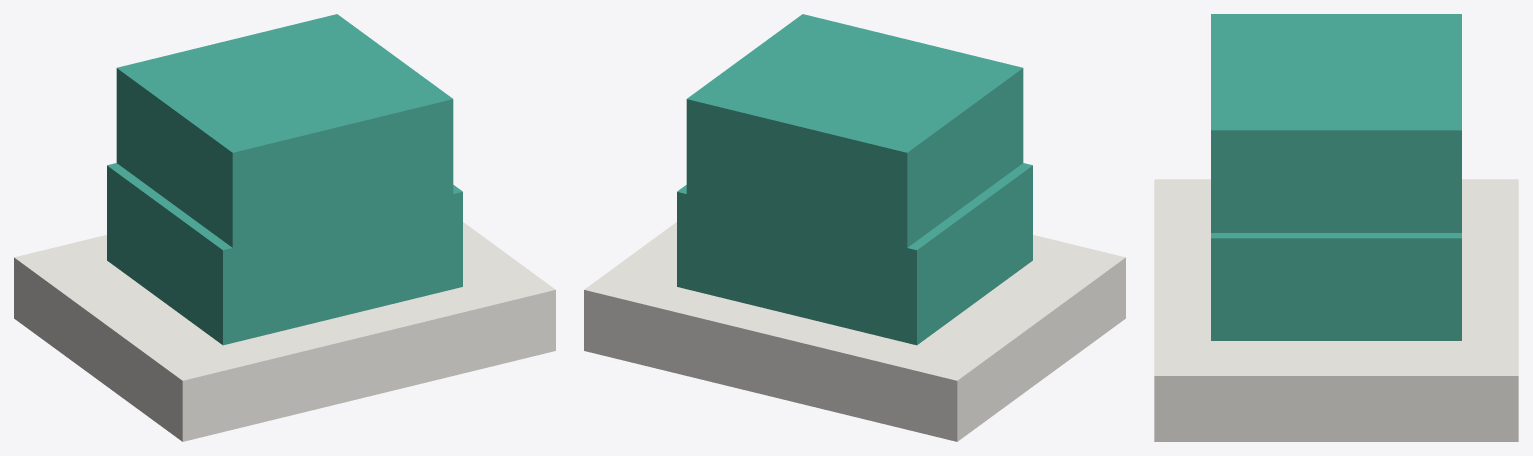
The model's file is message_board-lv2.glb.
3 views of the same model, side by side, from view 1: azimuth 30°, elevation 25°; view 2: azimuth 150°, elevation 25°; view 3: azimuth 270°, elevation 25° (orthographic). The views are drawn at different scales.
Visible parts, largest first — view 1: Level2, Base, Level1; view 2: Level2, Base, Level1; view 3: Base, Level2, Level1.
Boxes of the visible parts, bbox=[...] form: Level2: bbox=[116, 14, 453, 247]; Base: bbox=[14, 222, 555, 441]; Level1: bbox=[107, 163, 462, 345]; Level2: bbox=[686, 14, 1023, 247]; Base: bbox=[584, 222, 1125, 441]; Level1: bbox=[677, 163, 1032, 345]; Base: bbox=[1154, 179, 1518, 441]; Level2: bbox=[1211, 14, 1461, 232]; Level1: bbox=[1211, 233, 1461, 340].
Size of the model in its own units: 1.15 by 0.74 by 0.9.
